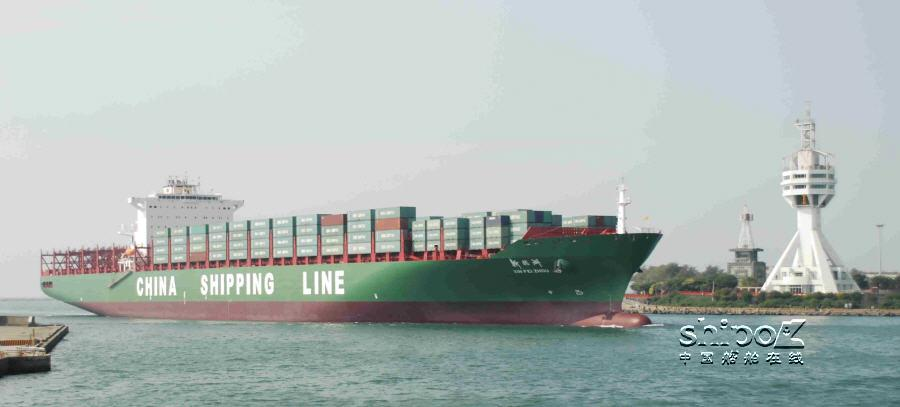Cargoship: (35, 140, 657, 324)
